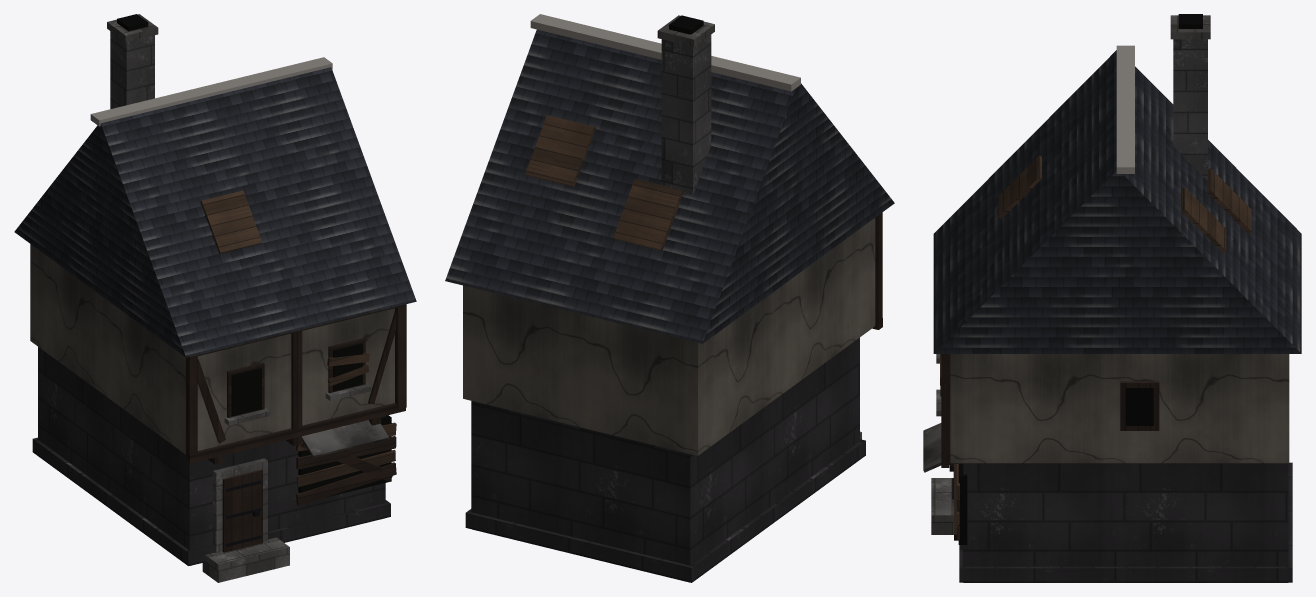
Rendered from CasaS10.gltf.
3 renders of one model, left to right at view 1: azimuth 30°, elevation 25°; view 2: azimuth 150°, elevation 25°; view 3: azimuth 270°, elevation 25°, orthographic. The views are drawn at different scales.
Visible parts, largest first — view 1: CasaS10; view 2: CasaS10; view 3: CasaS10.
Part boxes in pixels (bbox=[...]): CasaS10: bbox=[14, 14, 416, 582]; CasaS10: bbox=[445, 14, 894, 582]; CasaS10: bbox=[923, 14, 1301, 582].
Size of the model in its own units: 6.23 by 11.85 by 8.18.
Materials: 11 (8 with a texture image).
